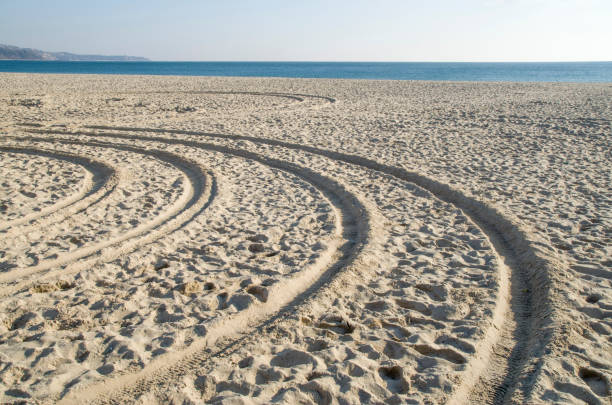vehicle_track: (95, 127, 549, 401), (0, 138, 216, 295), (0, 146, 116, 236)
